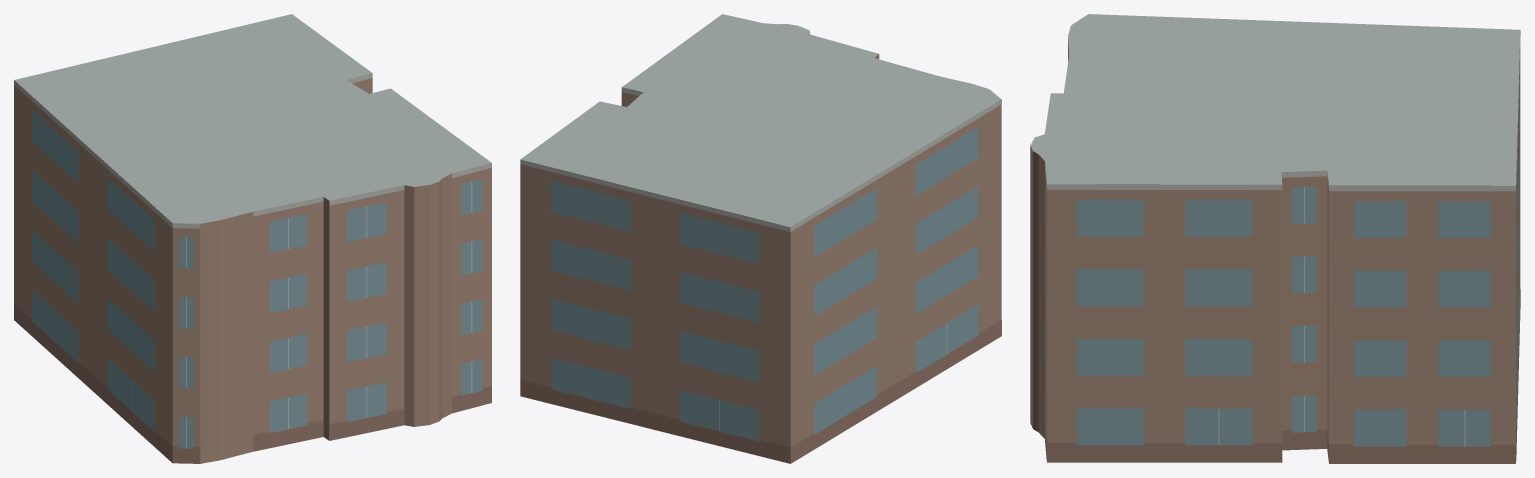
Rendered from survey-upis-32783029.glb.
3 views of the same model, side by side, from view 1: azimuth 30°, elevation 25°; view 2: azimuth 150°, elevation 25°; view 3: azimuth 270°, elevation 25° (orthographic). The views are drawn at different scales.
Parts seen in each view (by area): view 1: survey-upis-32783029.tmp; view 2: survey-upis-32783029.tmp; view 3: survey-upis-32783029.tmp.
Boxes of the visible parts, box(x1,y1,x2,y2) form: survey-upis-32783029.tmp: box(14, 14, 491, 463); survey-upis-32783029.tmp: box(520, 14, 1001, 463); survey-upis-32783029.tmp: box(1030, 14, 1520, 463).
Size of the model in its own units: 16.04 by 12.1 by 19.32.
